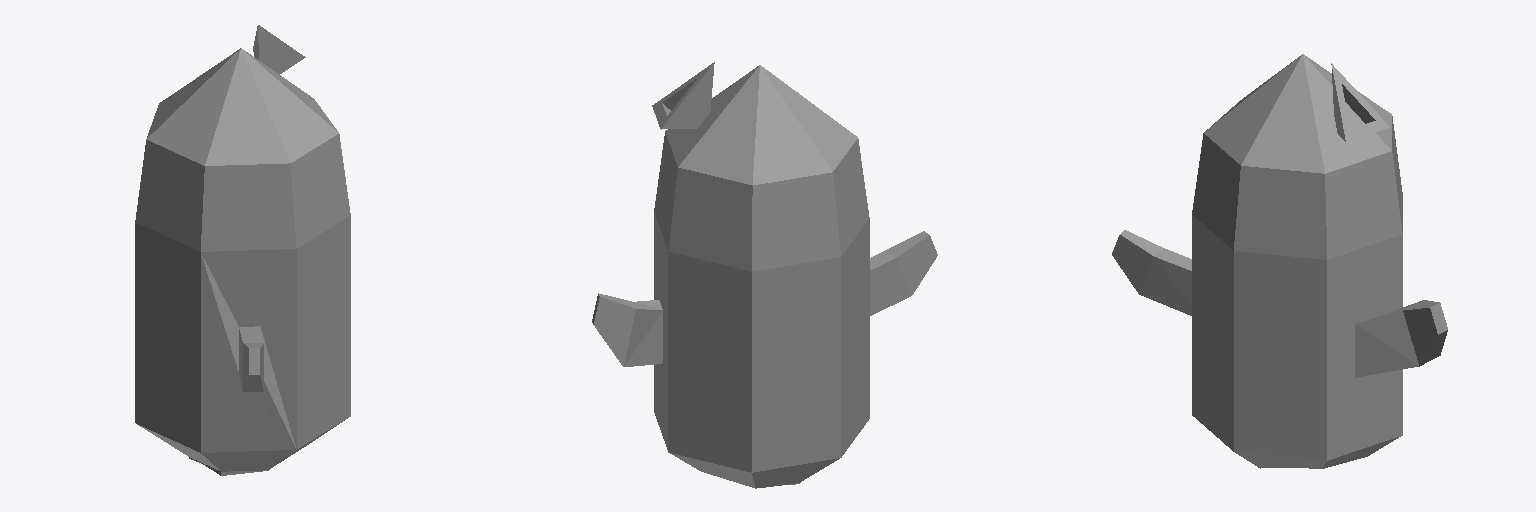
File: Cactus2.obj
The picture shows the model from 3 angles: view 1: azimuth 30°, elevation 25°; view 2: azimuth 150°, elevation 25°; view 3: azimuth 270°, elevation 25°; orthographic projection.
Visible parts, largest first — view 1: Cube.001_Cube.003; view 2: Cube.001_Cube.003; view 3: Cube.001_Cube.003.
Part boxes in pixels (bbox=[...]): Cube.001_Cube.003: bbox=[135, 25, 350, 475]; Cube.001_Cube.003: bbox=[592, 62, 937, 488]; Cube.001_Cube.003: bbox=[1112, 54, 1447, 468].
Size of the model in its own units: 0.7167 by 1.46 by 1.08.